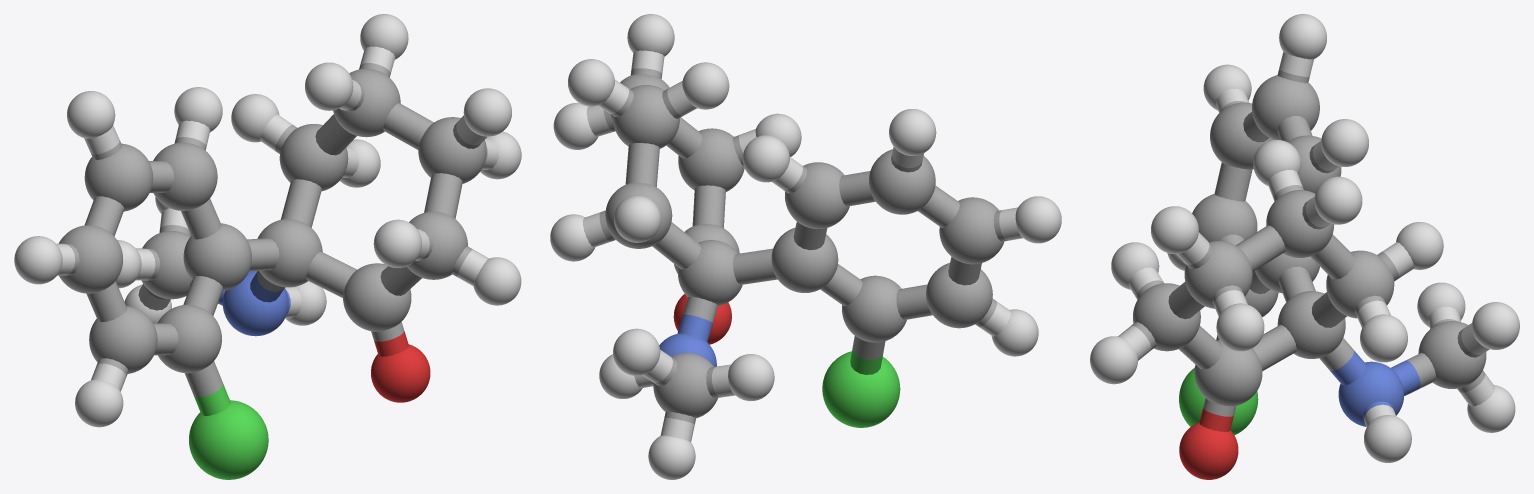
Rendered from Ketamine-bas-color-print.glb.
The picture shows the model from 3 angles, left to right: view 1: azimuth 30°, elevation 25°; view 2: azimuth 150°, elevation 25°; view 3: azimuth 270°, elevation 25°; orthographic projection. The views are drawn at different scales.
Parts seen in each view (by area): view 1: atoms, bonds; view 2: atoms, bonds; view 3: atoms, bonds.
Part boxes in pixels (box(x1,y1,x2,y2)): atoms: box(14, 14, 521, 479); bonds: box(56, 46, 498, 415); atoms: box(550, 14, 1061, 479); bonds: box(583, 50, 1022, 441); atoms: box(1090, 14, 1519, 479); bonds: box(1118, 52, 1495, 431).
Bounding box in the file's own units: 8.72 × 6.16 × 6.44.
